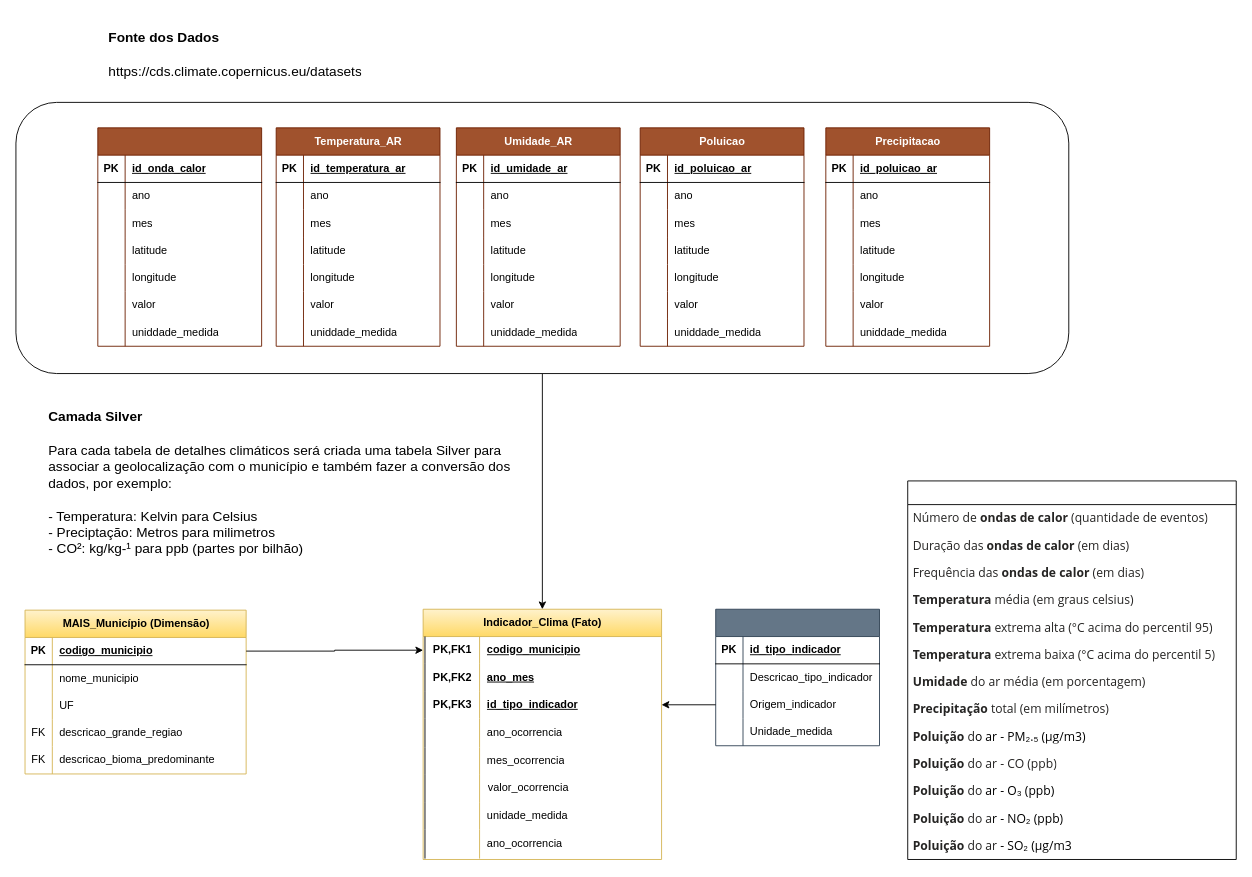
Image size: 1252x877. Some labels were removed from this diagram. The shapes that lost their labels are listed below. From the top down, each one's box as (x1, y1, x2, y2) in pixels, then its label:
(97, 127, 262, 346): Ondas_calor
(715, 608, 880, 746): Dominios
(907, 480, 1236, 859): Tipos_Indicador_Clima
